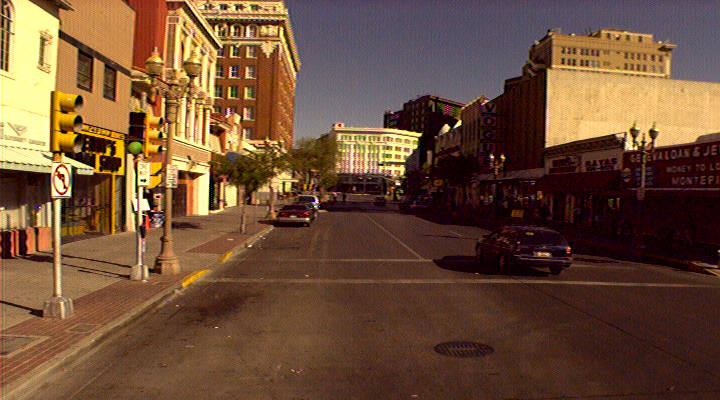Ramp: (171, 250, 237, 280)
